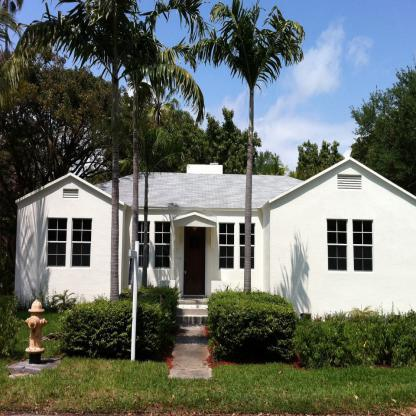door: (185, 229, 205, 292)
